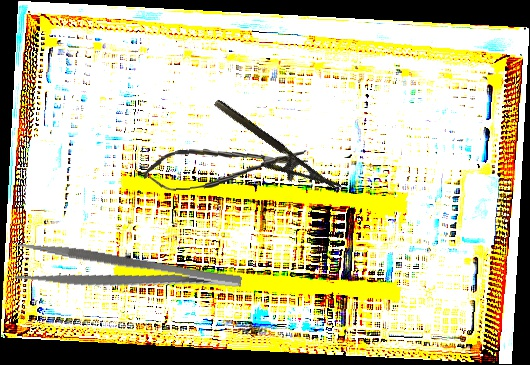Dressing Forceps: (14, 239, 243, 312)
Micro Scissor: (141, 141, 310, 193)
Needle Holder: (201, 97, 343, 211)
